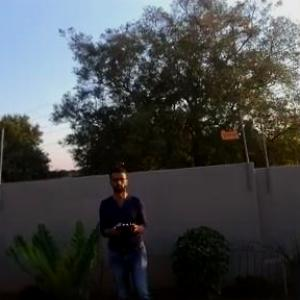follow: (96, 160, 156, 299)
